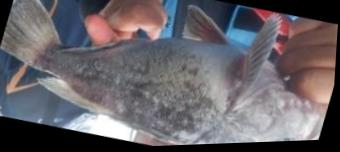fish: (1, 0, 328, 147)
